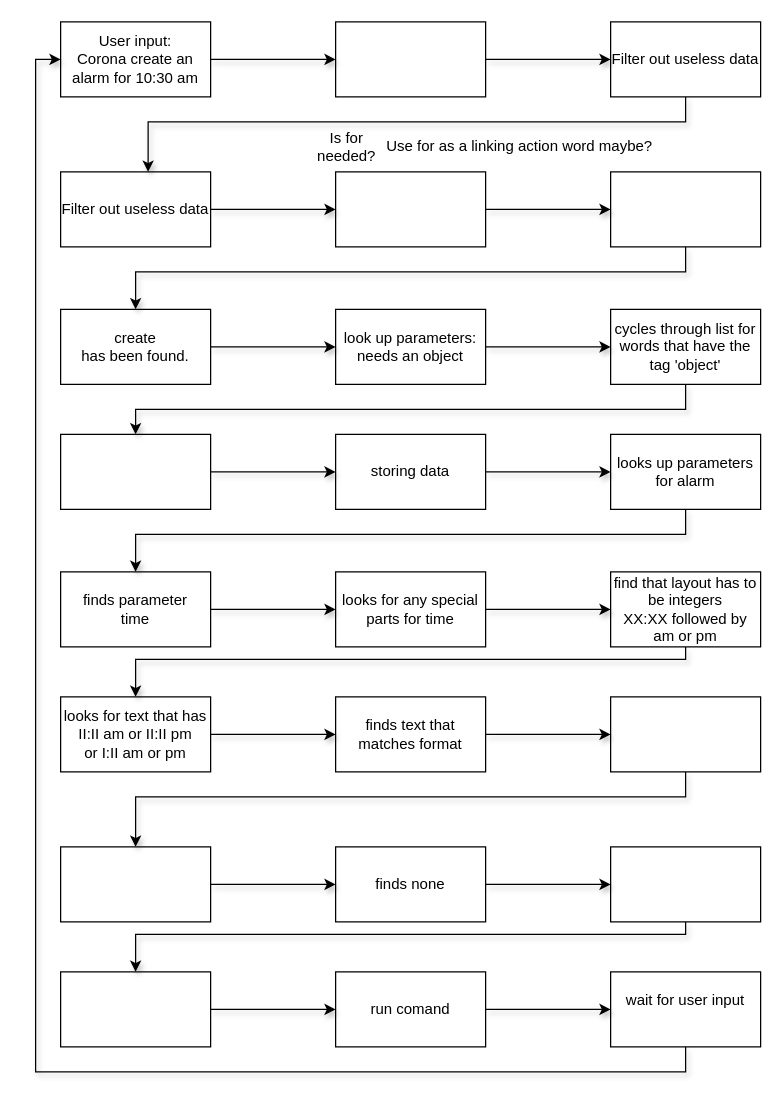
Image size: 783x1113. Some labels were removed from this diagram. Here are the shapes that lost their labels. From the top down, the centre of each, then its label:
(410,59): ['Corona","create" ,"an","alarm", "for","10:30","am"]
(410,209): ['create','alarm','for' ,'10:30','am']
(685,209): Identify action words from database
(135,471): Alarm has tag 'object'
(685,734): records 10:30 am
(135,884): looks for any needed parameters not found
(685,884): converts stored data to understandable code
(135,1009): from def Create create object alarm(10,30,am)
